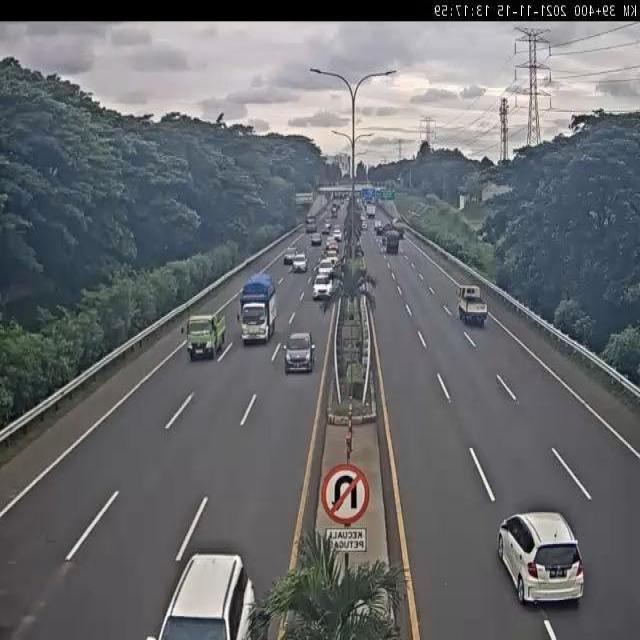Car: (497, 504, 588, 607), (281, 331, 316, 380), (312, 274, 333, 300), (292, 250, 309, 276), (282, 246, 296, 265), (319, 260, 336, 275), (311, 230, 322, 247)
Truck: (235, 272, 278, 351), (181, 310, 227, 364), (458, 283, 490, 327), (382, 226, 399, 253), (305, 213, 317, 233)
